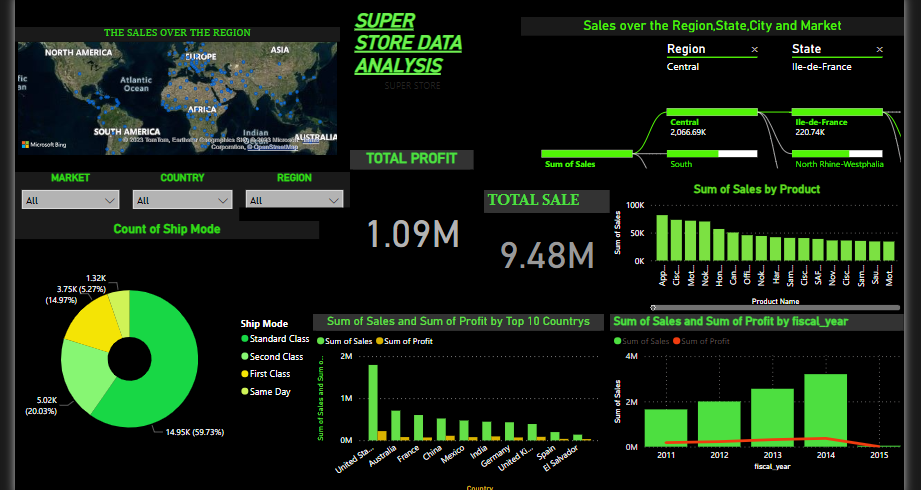

What the dashboard file says about the page in this screenshot:
{"tool":"powerbi","page":{"name":"Page 1","canvas":[1280,720],"ordinal":0},"visuals":[{"type":"slicer","title":"COUNTRY","fields":{"Values":["Orders.Country"]},"box":[159.8,253.7,163.1,70.8],"z":0},{"type":"slicer","title":"REGION","fields":{"Values":["Orders.Region"]},"box":[322.9,253.7,159.8,51.1],"z":1000},{"type":"slicer","title":"MARKET","fields":{"Values":["Orders.Market"]},"box":[0,253.7,159.8,74.1],"z":2000},{"type":"map","title":"THE SALES OVER THE REGION","fields":{"Category":["Orders.Country"]},"box":[0,44.5,467.9,189.4],"z":3000},{"type":"donutChart","title":"Count of Ship Mode ","fields":{"Y":["CountNonNull(Orders.Ship Mode)"],"Category":["Orders.Ship Mode"]},"box":[0,324.5,438.2,375.6],"z":4000},{"type":"decompositionTreeVisual","title":"Sales over the Region,State,City and Market","fields":{"ExplainBy":["Orders.Region","Orders.State","Orders.City","Orders.Market"],"Analyze":["Sum(Orders.Sales)"]},"box":[728.6,30.2,551.5,223.2],"z":5000},{"type":"lineClusteredColumnComboChart","title":"Sum of Sales and Sum of Profit by Top 10  Countrys","fields":{"Y":["Sum(Orders.Sales)","Sum(Orders.Profit)"],"Category":["Orders.Country"]},"box":[429.1,457.9,419,262.1],"z":6000},{"type":"lineStackedColumnComboChart","fields":{"Category":["Orders.fiscal_year"],"Y":["Sum(Orders.Sales)"],"Y2":["Sum(Orders.Profit)"]},"box":[856.8,457.9,423.4,230.4],"z":7000},{"type":"card","title":"TOTAL SALE","fields":{"Values":["Sum(Orders.Sales)"]},"box":[675.4,279.4,181.4,145.4],"z":8000},{"type":"card","title":"TOTAL PROFIT","fields":{"Values":["Sum(Orders.Profit)"]},"box":[482.7,222.4,177.9,202.6],"z":9000},{"type":"textbox","title":"SUPER STORE DATA ANALYSIS","box":[483.8,18.7,177.1,169.9],"z":10000},{"type":"lineClusteredColumnComboChart","title":"Sum of Sales by Product ","fields":{"Category":["Orders.Product Name"],"Y":["Sum(Orders.Sales)"]},"box":[856.8,267.8,423.4,190.1],"z":11000}]}

Visuals, with their boxes on the page's 1280x720 design canvas (x1, y1, x2, y2). These are canvas units, not pixel positions in the 921x490 screenshot, which may show the page scaled, cropped or inside an application window:
"COUNTRY" slicer: region(160, 254, 323, 324)
"REGION" slicer: region(323, 254, 483, 305)
"MARKET" slicer: region(0, 254, 160, 328)
"THE SALES OVER THE REGION" map: region(0, 44, 468, 234)
"Count of Ship Mode " donutChart: region(0, 324, 438, 700)
"Sales over the Region,State,City and Market" decompositionTreeVisual: region(729, 30, 1280, 253)
"Sum of Sales and Sum of Profit by Top 10  Countrys" lineClusteredColumnComboChart: region(429, 458, 848, 720)
lineStackedColumnComboChart - Orders.fiscal_year x Sum(Orders.Sales): region(857, 458, 1280, 688)
"TOTAL SALE" card: region(675, 279, 857, 425)
"TOTAL PROFIT" card: region(483, 222, 661, 425)
"SUPER STORE DATA ANALYSIS" textbox: region(484, 19, 661, 189)
"Sum of Sales by Product " lineClusteredColumnComboChart: region(857, 268, 1280, 458)
